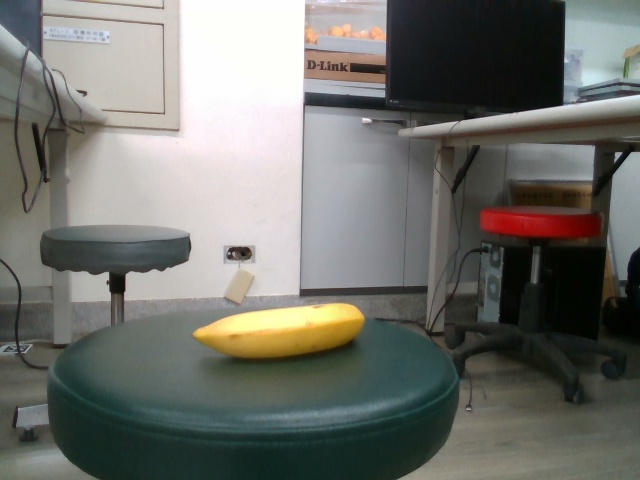banana: (190, 301, 370, 360)
